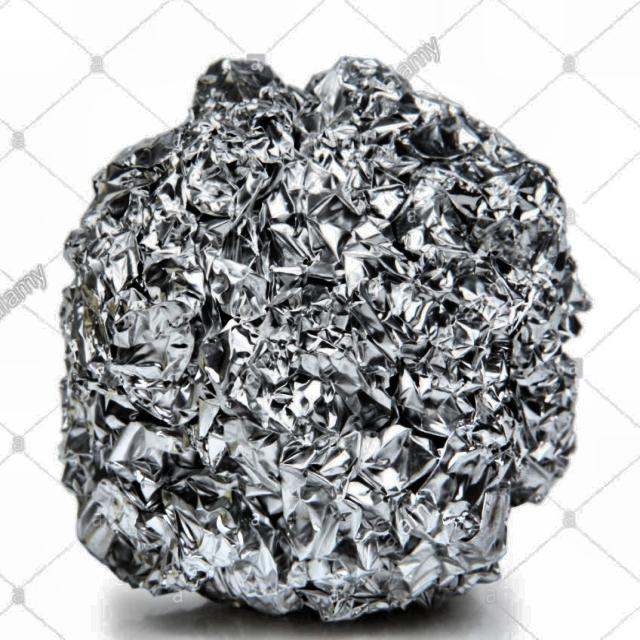Foil: (29, 43, 604, 640)
